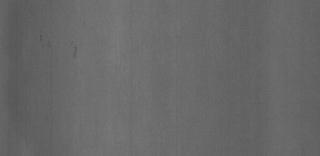water spot: (68, 41, 86, 67), (36, 30, 54, 54)
